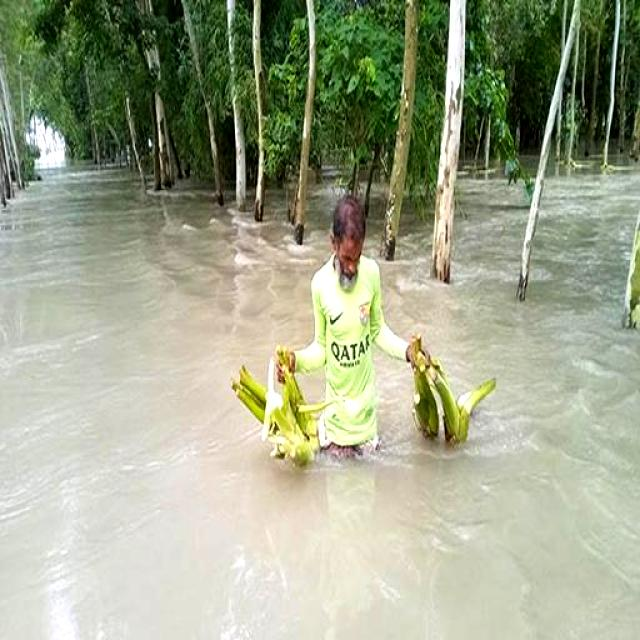civilian: (266, 186, 428, 482)
